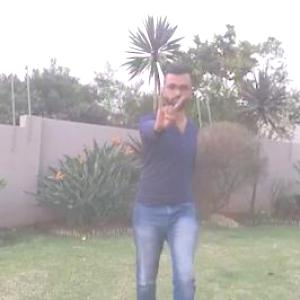takeoff-hand: (142, 89, 193, 137)
